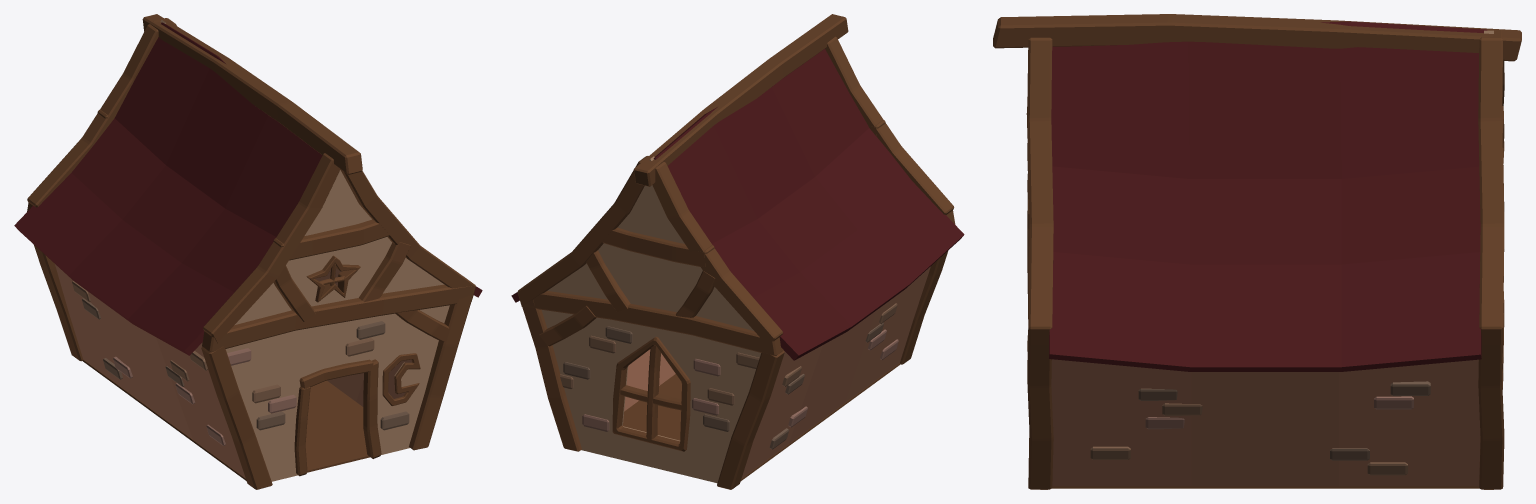
File: house (1).fbx
The picture shows the model from 3 angles, left to right: view 1: azimuth 30°, elevation 25°; view 2: azimuth 150°, elevation 25°; view 3: azimuth 270°, elevation 25°; orthographic projection. The views are drawn at different scales.
Parts seen in each view (by area): view 1: Plane.003, Plane.001, Plane.004, Cube.024, Cube.002, Cube.004, Cube.062, Cube.001, Cube.016, Cube, Cube.003, Cube.005 (+10 smaller); view 2: Plane.003, Plane.005, Plane.004, Cube.024, Cube.014, Cube.016, Cube.013, Cube.015, Cube.004, Plane.008, Cube.012, Cube.062 (+8 smaller); view 3: Plane, Plane.002, Cube.024, Cube.015, Cube.003, Cube, Cube.012, Cube.062, Plane.003, Cube.058, Cube.060.
Boxes of the visible parts, x1,y1,x2,y2 form: Plane.003: [14, 22, 322, 355]; Plane.001: [225, 170, 449, 481]; Plane.004: [55, 264, 245, 477]; Cube.024: [142, 14, 362, 174]; Cube.002: [202, 284, 473, 352]; Cube.004: [203, 153, 340, 343]; Cube.062: [82, 359, 369, 480]; Cube.001: [201, 346, 272, 489]; Cube.016: [27, 24, 158, 207]; Cube: [409, 295, 472, 450]; Cube.003: [340, 169, 475, 301]; Cube.005: [273, 219, 392, 260]; Plane.003: [653, 49, 964, 360]; Plane.005: [541, 156, 760, 482]; Plane.004: [742, 266, 930, 477]; Cube.024: [633, 14, 848, 186]; Cube.014: [522, 291, 783, 355]; Cube.016: [652, 162, 782, 346]; Cube.013: [717, 350, 784, 489]; Cube.015: [517, 156, 654, 306]; Cube.004: [825, 36, 954, 214]; Plane.008: [612, 336, 690, 451]; Cube.012: [522, 300, 581, 451]; Cube.062: [623, 363, 900, 480]; Plane: [1049, 41, 1481, 371]; Plane.002: [1051, 359, 1480, 486]; Cube.024: [993, 14, 1521, 61]; Cube.015: [1478, 30, 1504, 344]; Cube.003: [1027, 37, 1053, 344]; Cube: [1027, 333, 1053, 489]; Cube.012: [1478, 342, 1504, 489]; Cube.062: [1052, 486, 1479, 488]; Plane.003: [1321, 21, 1487, 32]; Cube.058: [1390, 381, 1430, 395]; Cube.060: [1090, 446, 1130, 459].
Size of the model in its own units: 400 by 419 by 480.
